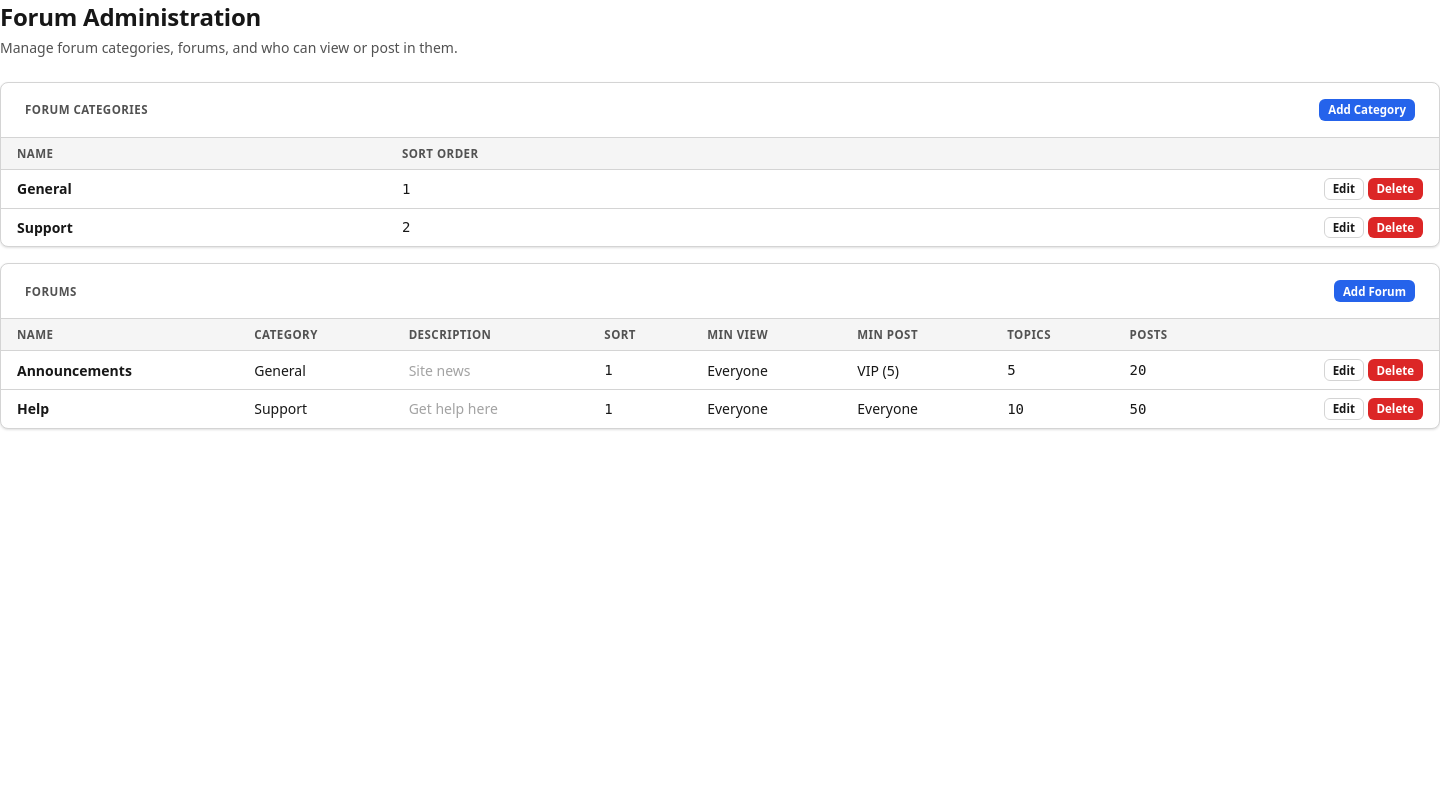
AdminForumsPage › opens edit forum modal when Edit is clicked
Expected: the text "Announcements" is shown, [1,351,238,389]
# Click the last edit button (which should be in the forums table)
What coordinates should you click on to do the following:
click the button "Edit" in the row of "Get help here"
I would click on:
 (1344, 409)
Its box is [1324,398,1364,420].
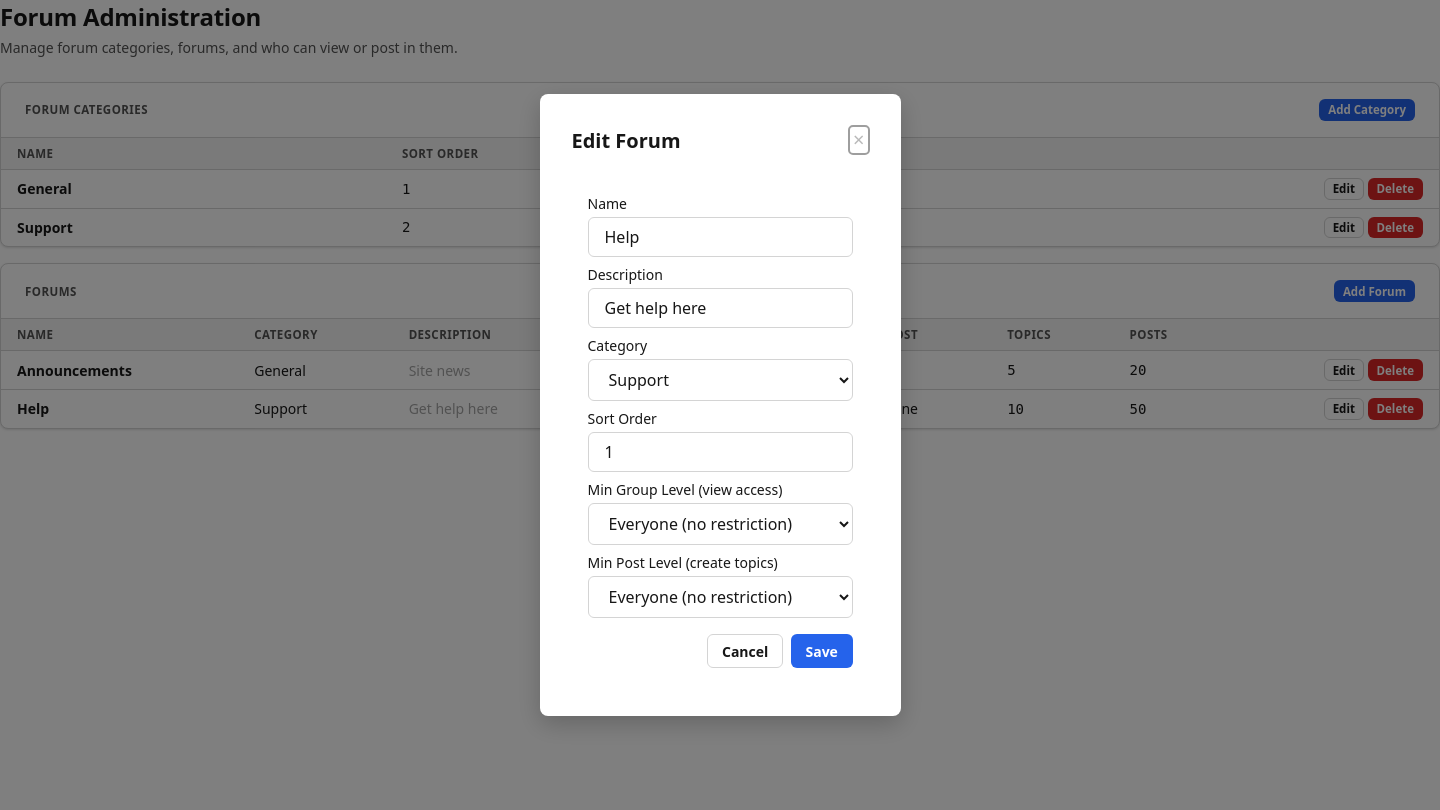
Result: the dialog is shown
Result: the heading "Edit Forum" is shown at [572,127,681,154]
